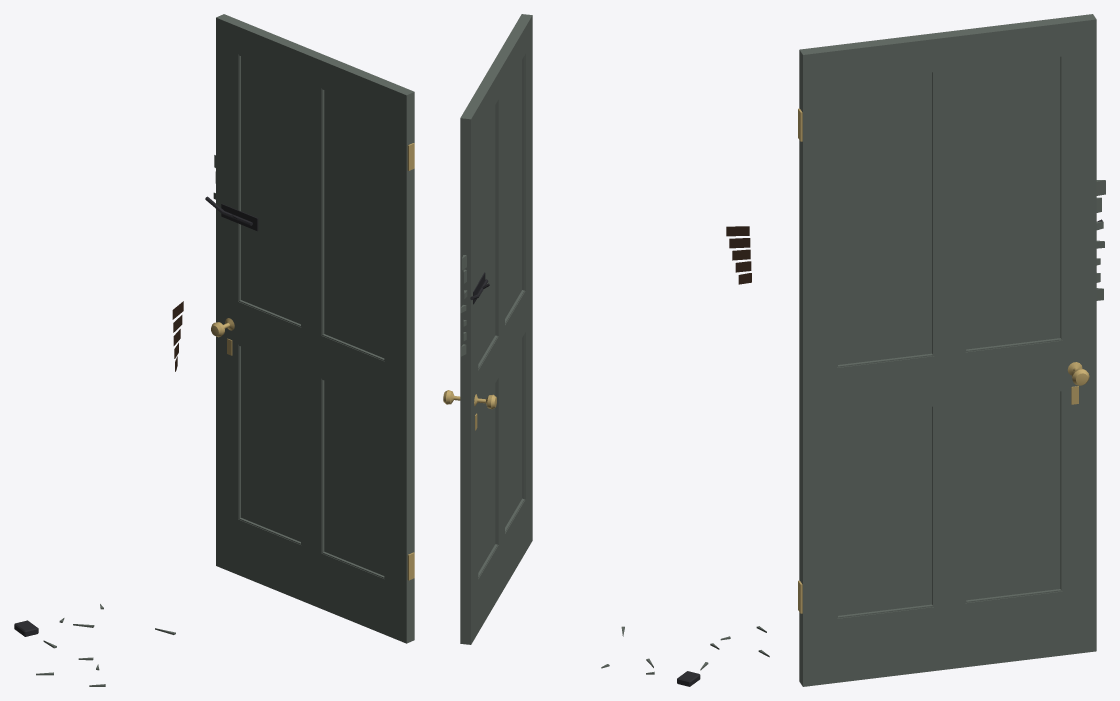
Rendered from room_darkroom__门撞坏.gltf.
3 renders of one model, left to right at view 1: azimuth 30°, elevation 25°; view 2: azimuth 150°, elevation 25°; view 3: azimuth 270°, elevation 25°, orthographic. The views are drawn at different scales.
Visible parts, largest first — view 1: 暗房·走廊门（撞开）, 暗房·撞门的木屑; view 2: 暗房·走廊门（撞开）, 暗房·撞门的木屑; view 3: 暗房·走廊门（撞开）.
Part boxes in pixels (x1,y1,x2,y2): 暗房·走廊门（撞开）: (205, 14, 414, 643); 暗房·撞门的木屑: (14, 301, 183, 686); 暗房·走廊门（撞开）: (443, 14, 532, 644); 暗房·撞门的木屑: (601, 226, 769, 686); 暗房·走廊门（撞开）: (798, 14, 1105, 686).
Bounding box in the file's own units: 1.32 × 2.18 × 0.9598.
